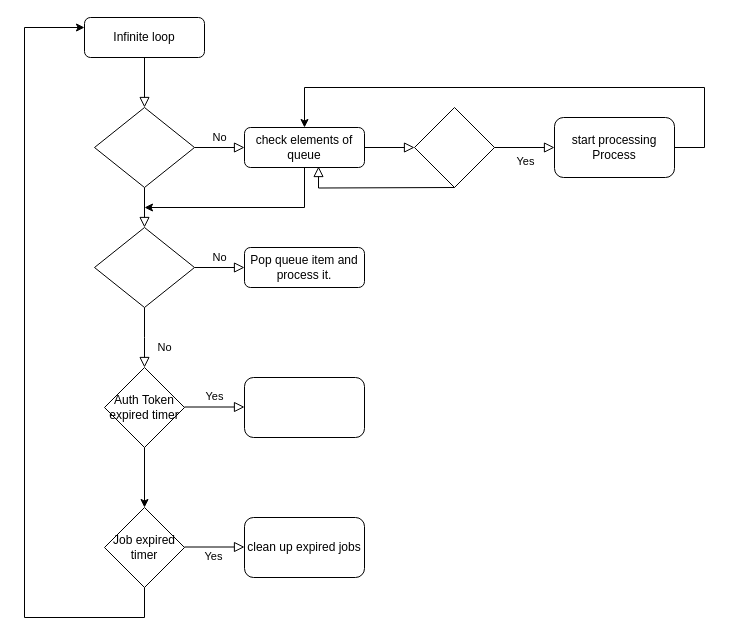
The diagram is 730 pixels wide and 643 high, and some of its shapes have lost their labels. Each missing label, with the box of its shape:
Clean up expired tokens: (244, 376, 364, 438)
output queue empty: (94, 226, 194, 308)
process queue empty: (94, 106, 194, 188)
status is queued: (414, 106, 494, 188)
